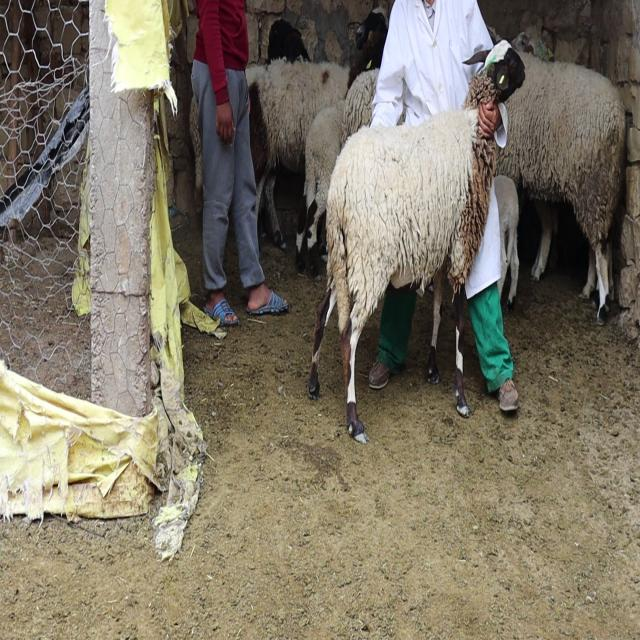Score_4: (307, 40, 525, 443)
